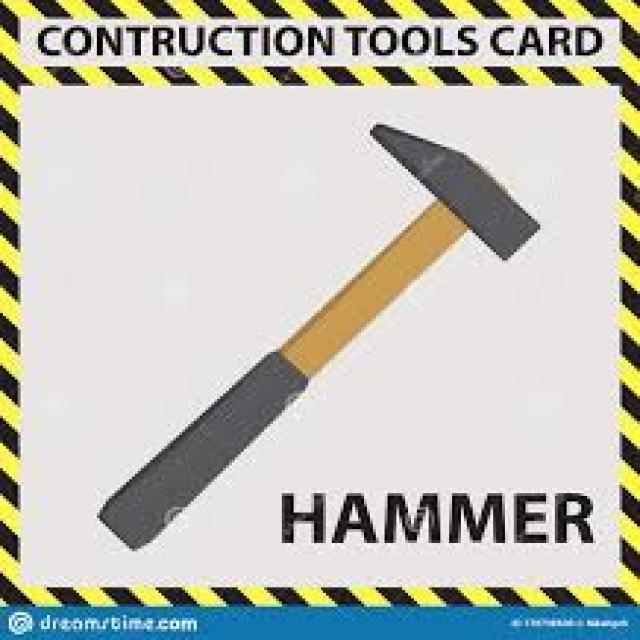hammer: (44, 88, 562, 459)
